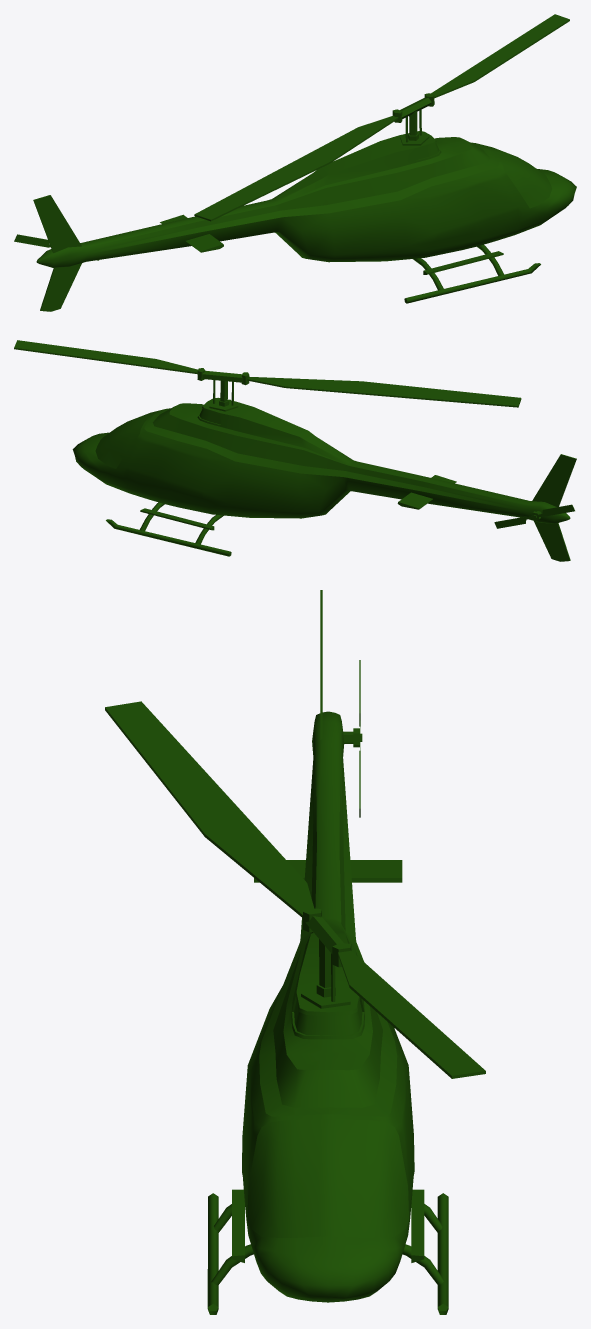
The model's file is Vehicle13.fbx.
The picture shows the model from 3 angles, top to bottom: view 1: azimuth 30°, elevation 25°; view 2: azimuth 150°, elevation 25°; view 3: azimuth 270°, elevation 25°; orthographic projection. The views are drawn at different scales.
Parts seen in each view (by area): view 1: Vehicle13; view 2: Vehicle13; view 3: Vehicle13.
Boxes of the visible parts, x1,y1,x2,y2 form: Vehicle13: (14, 14, 576, 311); Vehicle13: (14, 340, 576, 561); Vehicle13: (105, 590, 485, 1314).
Size of the model in its own units: 8.88 by 2.64 by 2.74.
